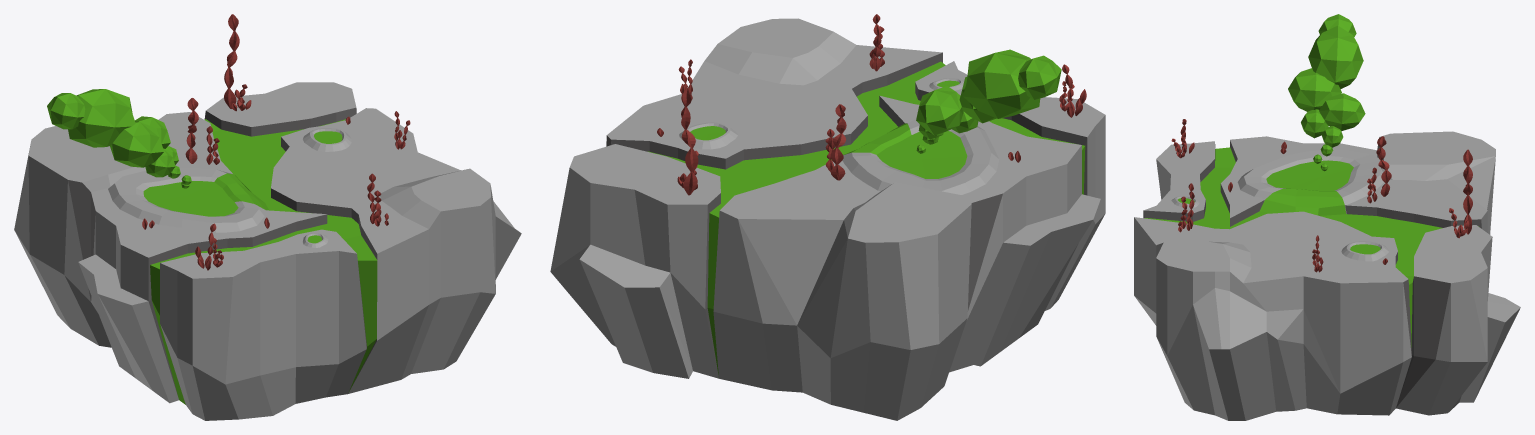
The model's file is Island_12.glb.
3 renders of one model, left to right at view 1: azimuth 30°, elevation 25°; view 2: azimuth 150°, elevation 25°; view 3: azimuth 270°, elevation 25°, orthographic. The views are drawn at different scales.
Parts seen in each view (by area): view 1: Isl12_Base, Isl12_Smoke, Isl12_Crater_2, Isl12_Cactus_5, Isl12_Cactus_10; view 2: Isl12_Base, Isl12_Smoke, Isl12_Crater_2, Isl12_Cactus_5, Isl12_Cactus_10; view 3: Isl12_Base, Isl12_Smoke, Isl12_Crater_2, Isl12_Cactus_5, Isl12_Cactus_10.
Boxes of the visible parts, x1=… form: Isl12_Base: x1=14, y1=82, x2=521, y2=420; Isl12_Smoke: x1=47, y1=89, x2=191, y2=188; Isl12_Crater_2: x1=303, y1=128, x2=351, y2=151; Isl12_Cactus_5: x1=224, y1=14, x2=239, y2=108; Isl12_Cactus_10: x1=185, y1=98, x2=198, y2=163; Isl12_Base: x1=550, y1=18, x2=1105, y2=420; Isl12_Smoke: x1=916, y1=49, x2=1061, y2=153; Isl12_Crater_2: x1=679, y1=122, x2=737, y2=149; Isl12_Cactus_5: x1=681, y1=88, x2=698, y2=195; Isl12_Cactus_10: x1=830, y1=104, x2=846, y2=180; Isl12_Base: x1=1134, y1=131, x2=1520, y2=420; Isl12_Smoke: x1=1288, y1=14, x2=1365, y2=171; Isl12_Crater_2: x1=1341, y1=241, x2=1389, y2=261; Isl12_Cactus_5: x1=1463, y1=149, x2=1472, y2=234; Isl12_Cactus_10: x1=1376, y1=136, x2=1391, y2=196.
Bounding box in the file's own units: 25.15 × 17.09 × 23.33.
1 material, 1 textured.
